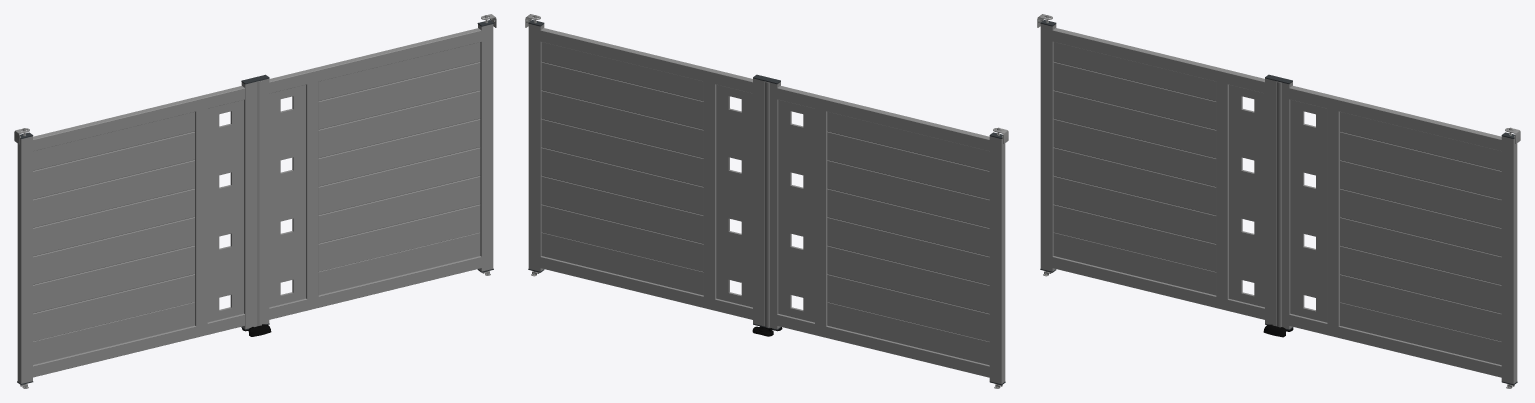
The picture shows the model from 3 angles, left to right: view 1: azimuth 30°, elevation 25°; view 2: azimuth 150°, elevation 25°; view 3: azimuth 330°, elevation 25°; orthographic projection.
Visible parts, largest first — view 1: carre, carre001, Shape107412861, Shape107412862, Shape107412864, Shape107412866, Shape107412863, Shape107412865, Shape107412853, Shape107412855, Shape107412851, Shape107412854 (+17 smaller); view 2: carre001, carre, Shape107412850, Shape107412851, Shape107412853, Shape107412862, Shape107412863, Shape107412865, Shape107412855, Shape107412861, Shape107412864, Shape107412852 (+17 smaller); view 3: carre001, carre, Shape107412854, Shape107412852, Shape107412850, Shape107412853, Shape107412851, Shape107412855, Shape107412864, Shape107412863, Shape107412865, Shape107412862 (+17 smaller).
Boxes of the visible parts, <box> form: carre: <box>207,100,243,322</box>; carre001: <box>269,85,305,307</box>; Shape107412861: <box>318,61,480,129</box>; Shape107412862: <box>318,90,480,157</box>; Shape107412864: <box>318,147,480,214</box>; Shape107412866: <box>318,204,480,271</box>; Shape107412863: <box>318,118,480,186</box>; Shape107412865: <box>318,175,480,243</box>; Shape107412853: <box>33,216,194,284</box>; Shape107412855: <box>33,273,194,341</box>; Shape107412851: <box>33,159,194,227</box>; Shape107412854: <box>33,245,194,312</box>; carre001: <box>716,84,752,307</box>; carre: <box>778,100,814,322</box>; Shape107412850: <box>827,131,989,198</box>; Shape107412851: <box>827,160,989,227</box>; Shape107412853: <box>827,217,989,284</box>; Shape107412862: <box>541,90,703,157</box>; Shape107412863: <box>541,118,703,186</box>; Shape107412865: <box>541,175,703,243</box>; Shape107412855: <box>827,274,989,341</box>; Shape107412861: <box>541,61,703,129</box>; Shape107412864: <box>541,147,703,214</box>; Shape107412852: <box>827,188,989,255</box>; carre001: <box>1290,99,1327,322</box>; carre: <box>1229,85,1264,307</box>; Shape107412854: <box>1053,175,1216,243</box>; Shape107412852: <box>1053,118,1216,186</box>; Shape107412850: <box>1053,61,1216,129</box>; Shape107412853: <box>1053,147,1216,214</box>; Shape107412851: <box>1053,90,1216,157</box>; Shape107412855: <box>1053,204,1216,271</box>; Shape107412864: <box>1340,217,1501,284</box>; Shape107412863: <box>1340,188,1501,255</box>; Shape107412865: <box>1340,245,1501,312</box>; Shape107412862: <box>1340,160,1501,227</box>.
Size of the model in its own units: 3260 by 1696 by 146.
Materials: 7 (2 with a texture image).
